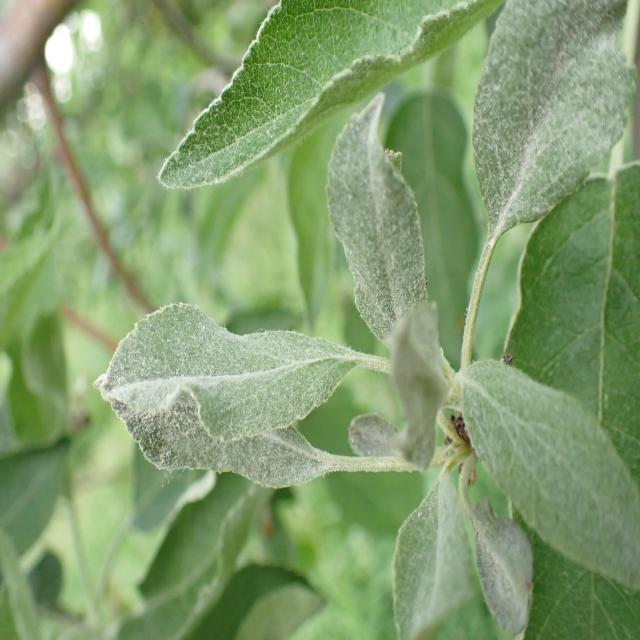Powdery_mildew: (138, 0, 496, 201), (468, 4, 638, 328), (458, 349, 640, 597), (106, 288, 354, 436), (322, 103, 458, 365), (123, 384, 334, 520), (463, 474, 553, 640), (366, 482, 464, 634), (392, 296, 459, 477), (346, 406, 416, 480)
